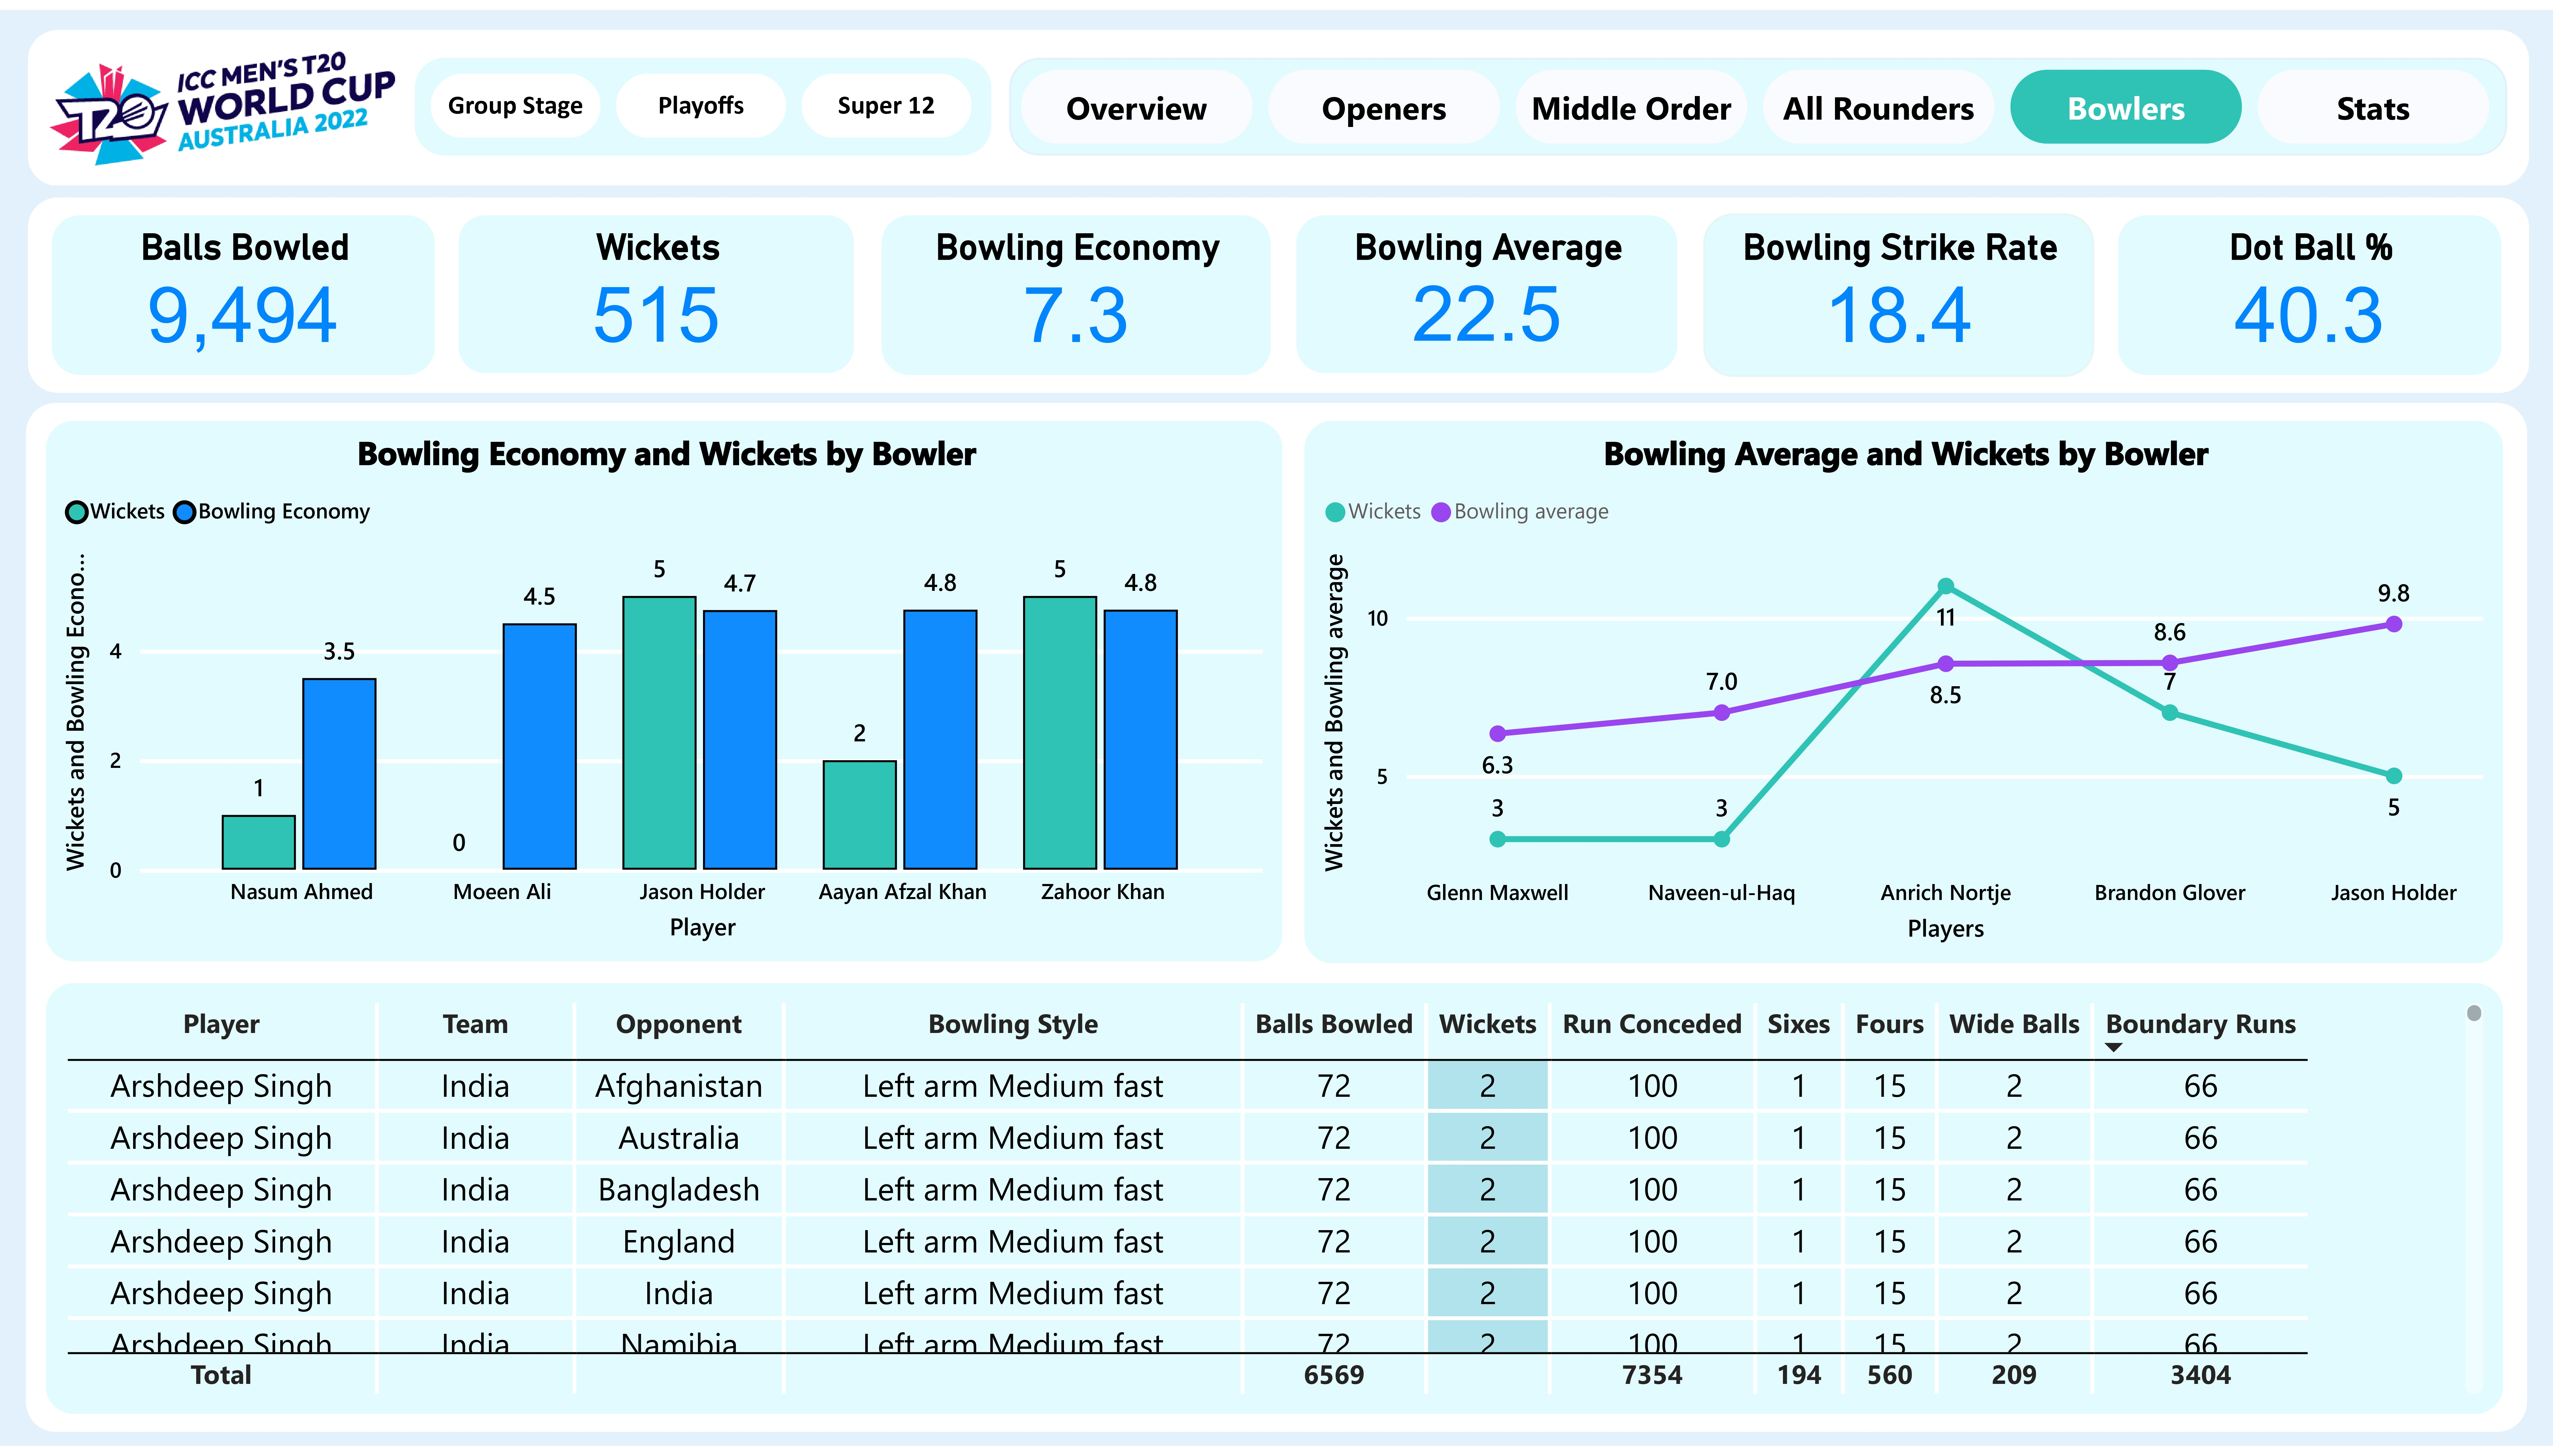

This screenshot's page, from the dashboard's own definition file:
{"tool":"powerbi","page":{"name":"Bowlers","canvas":[1280,720],"ordinal":4},"visuals":[{"type":"shape","box":[12.5,197,1254,516],"z":0},{"type":"lineChart","title":"Bowling Average and Wickets by Bowler","fields":{"Category":["players.name"],"Y":["Measure.Wickets","Measure.Bowling average"]},"box":[653.4,204.8,603.3,273.8],"z":4000},{"type":"shape","box":[383.4,319.6,159,34],"z":7000},{"type":"shape","box":[203.4,319.6,160,34],"z":8000},{"type":"tableEx","fields":{"Values":["players.name","players.team","bating_summary.Opponent","players.bowlingStyle","Sum(bowling_summary.balls)","bowling_summary.wickets","Measure.Run Conceded","Sum(bowling_summary.sixes)","Sum(bowling_summary.fours)","Sum(bowling_summary.wides)","Sum(bowling_summary.Boundary runs bowling)"]},"box":[22,487,1234,218],"z":9000},{"type":"clusteredColumnChart","title":"Bowling Economy and Wickets by Bowler","fields":{"Category":["players.name"],"Y":["Measure.Wickets","Measure.Bowling Economy"]},"box":[21.5,205.2,622.5,273.3],"z":10000},{"type":"shape","box":[13.8,93.8,1254,98],"z":11000},{"type":"advanceCardE03760C5AB684758B56AA29F9E6C257B","title":"Wickets","fields":{"mainMeasure":["Measure.Wickets"]},"box":[229,102,200,81.2],"z":12000},{"type":"advanceCardE03760C5AB684758B56AA29F9E6C257B","title":"Balls Bowled","fields":{"mainMeasure":["Measure.Balls Bowled"]},"box":[24.9,102,194,81.6],"z":13000},{"type":"advanceCardE03760C5AB684758B56AA29F9E6C257B","title":"Dot Ball %","fields":{"mainMeasure":["Measure.Dot ball %"]},"box":[1061,102,193.9,81.6],"z":14000},{"type":"advanceCardE03760C5AB684758B56AA29F9E6C257B","title":"Bowling Strike Rate","fields":{"mainMeasure":["Measure.Bowling strick rate"]},"box":[854,102,196,81.6],"z":15000},{"type":"advanceCardE03760C5AB684758B56AA29F9E6C257B","title":"Bowling Average","fields":{"mainMeasure":["Measure.Bowling average"]},"box":[649,102,193,80.5],"z":16000},{"type":"advanceCardE03760C5AB684758B56AA29F9E6C257B","title":"Bowling Economy","fields":{"mainMeasure":["Measure.Bowling Economy"]},"box":[441,102,197,81.6],"z":17000},{"type":"shape","box":[13.6,10.2,1254,78.2],"z":18000},{"type":"image","box":[25.2,12.6,173.4,73.6],"z":19000},{"type":"pageNavigator","box":[506.1,24,750.9,49],"z":20000},{"type":"advancedSlicerVisual","fields":{"Values":["match_summary.Stage"]},"box":[208.1,24.5,289.4,49],"z":21000}]}

Visuals, with their boxes in screenshot pixels (x1, y1, x2, y2), scaled from the page's 1280x720 canvas onto the 2553x1456 screenshot:
shape: 25 398 2526 1442
"Bowling Average and Wickets by Bowler" lineChart: 1303 414 2506 968
shape: 765 646 1082 715
shape: 406 646 725 715
tableEx - players.name x players.team: 44 985 2505 1426
"Bowling Economy and Wickets by Bowler" clusteredColumnChart: 43 415 1284 968
shape: 27 190 2529 388
"Wickets" advanceCardE03760C5AB684758B56AA29F9E6C257B: 457 206 856 370
"Balls Bowled" advanceCardE03760C5AB684758B56AA29F9E6C257B: 50 206 437 371
"Dot Ball %" advanceCardE03760C5AB684758B56AA29F9E6C257B: 2116 206 2503 371
"Bowling Strike Rate" advanceCardE03760C5AB684758B56AA29F9E6C257B: 1703 206 2094 371
"Bowling Average" advanceCardE03760C5AB684758B56AA29F9E6C257B: 1294 206 1679 369
"Bowling Economy" advanceCardE03760C5AB684758B56AA29F9E6C257B: 880 206 1273 371
shape: 27 21 2528 179
image: 50 26 396 174
pageNavigator: 1009 48 2507 148
advancedSlicerVisual - match_summary.Stage: 415 49 992 149
